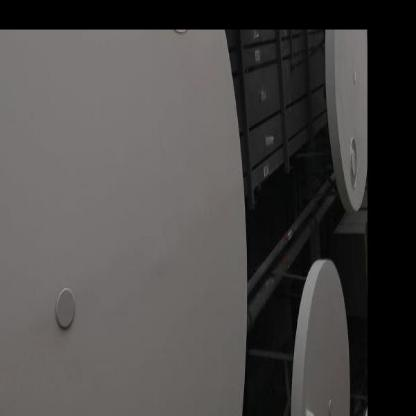light_off: (339, 124, 364, 199)
